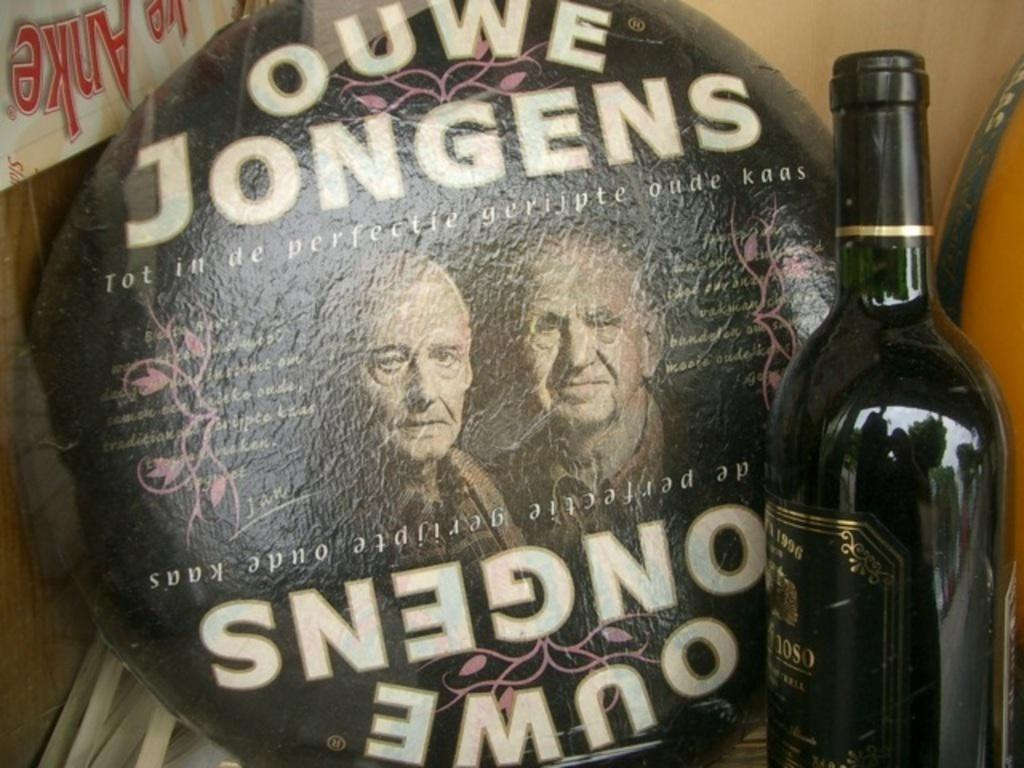bottle-glass: (752, 49, 1009, 767)
